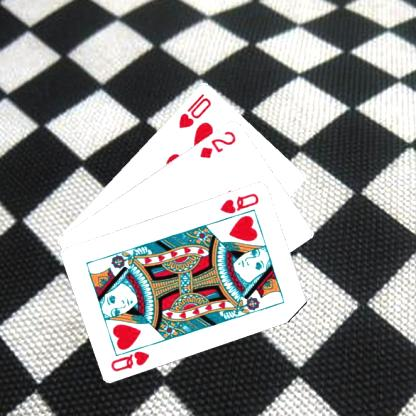10H: (176, 90, 212, 130)
2D: (197, 127, 238, 160)
QH: (108, 340, 153, 373), (218, 190, 260, 215)
